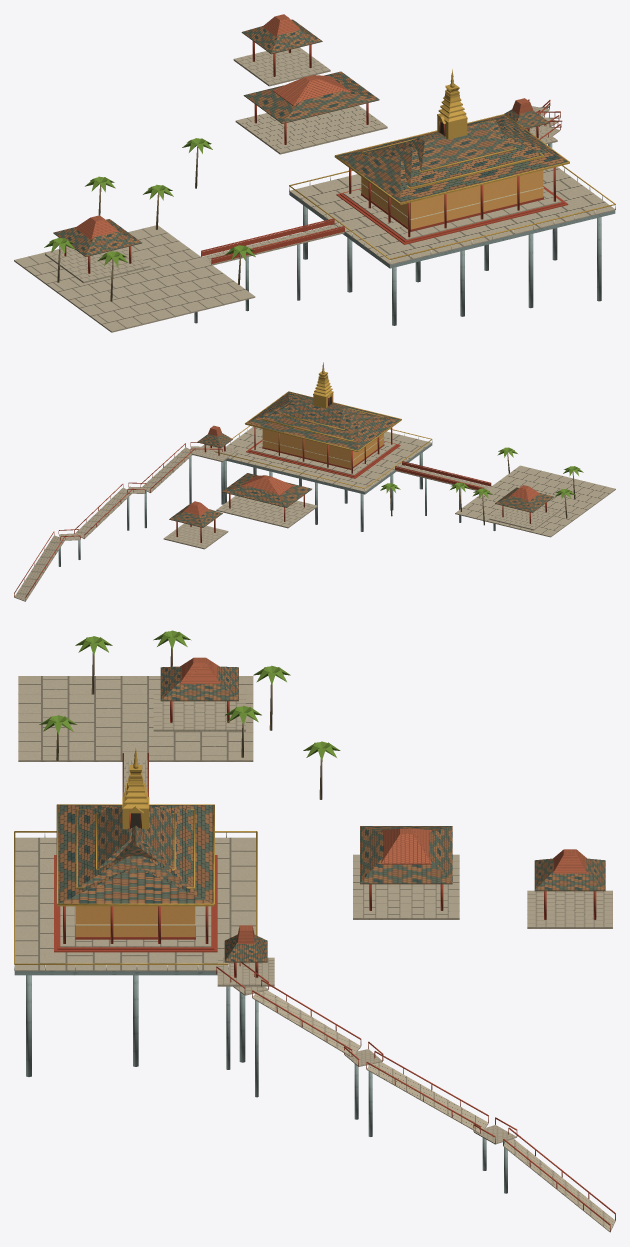
The model's file is chua-ta-pa-lod.glb.
3 views of the same model, one above another, from view 1: azimuth 30°, elevation 25°; view 2: azimuth 150°, elevation 25°; view 3: azimuth 270°, elevation 25° (orthographic). The views are drawn at different scales.
Parts seen in each view (by area): view 1: Chùa Tà Pạ far; view 2: Chùa Tà Pạ far; view 3: Chùa Tà Pạ far.
Part boxes in pixels (box(x1,y1,x2,y2)): Chùa Tà Pạ far: box(14, 14, 615, 332); Chùa Tà Pạ far: box(14, 362, 615, 601); Chùa Tà Pạ far: box(14, 630, 615, 1232).
Bounding box in the file's own units: 128 × 51.24 × 84.53.
1 material, 1 textured.
